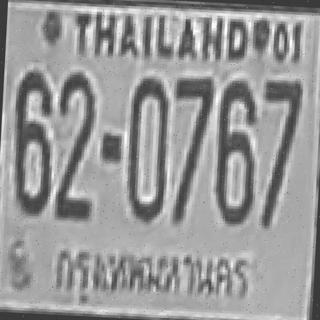N07: (260, 77, 301, 156), (171, 75, 212, 151)
P04: (46, 241, 257, 314)
